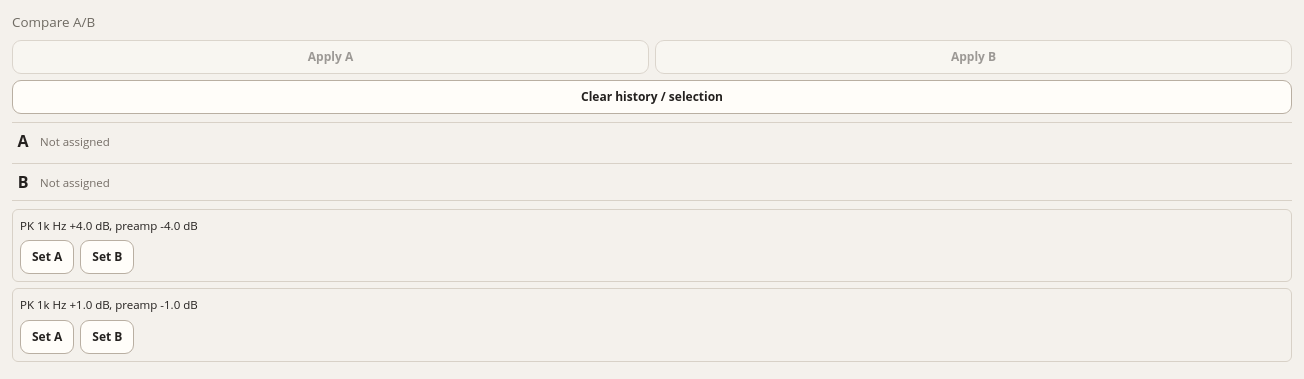
it: EqCompare › shows newest snapshots first with usable A/B assignment and bounded history controls
The width and height of the screenshot is (1304, 379).
Expected: the 1st text "Not assigned" is shown, [40,134,110,148]
Expected: the 2nd text "Not assigned" is shown, [40,174,110,190]
Click the button with aria-label "Set A: PK 1k Hz +4.0 dB, preamp -4.0 dB" at point(47, 257), box [20,240,74,274]
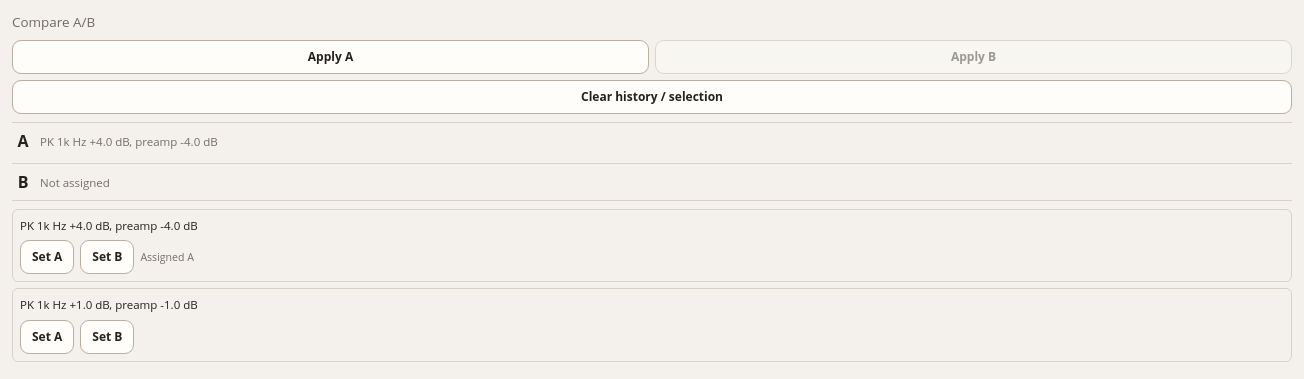
Click the button with aria-label "Set B: PK 1k Hz +1.0 dB, preamp -1.0 dB" at point(107, 337), box [80,320,134,354]
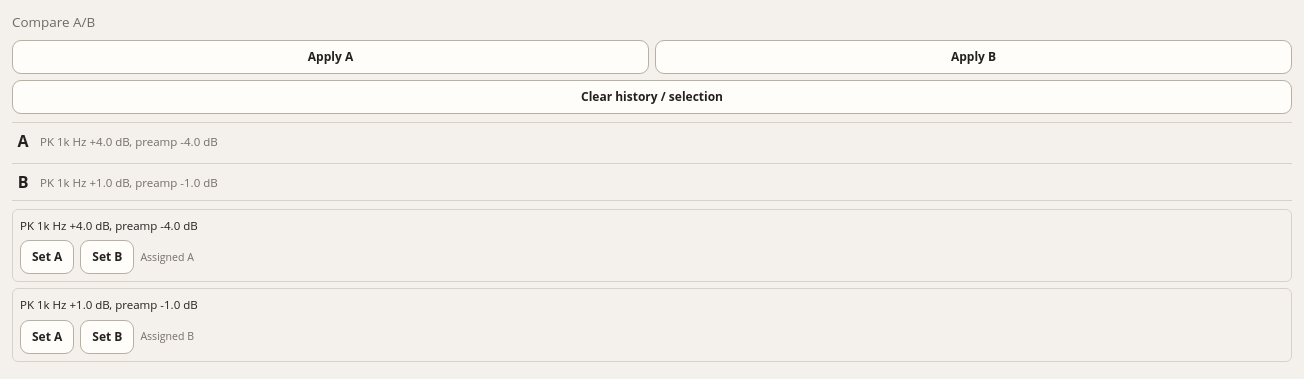
Expected: the text "Assigned A" is shown, [140,250,194,265]
Expected: the 1st text "PK 1k Hz +4.0 dB, preamp -4.0 dB" is shown, [40,134,218,148]
Expected: the text "Assigned B" is shown, [140,329,194,345]
Click the button with aria-label "Clear history and selection" at point(652, 97), box [12,80,1292,114]
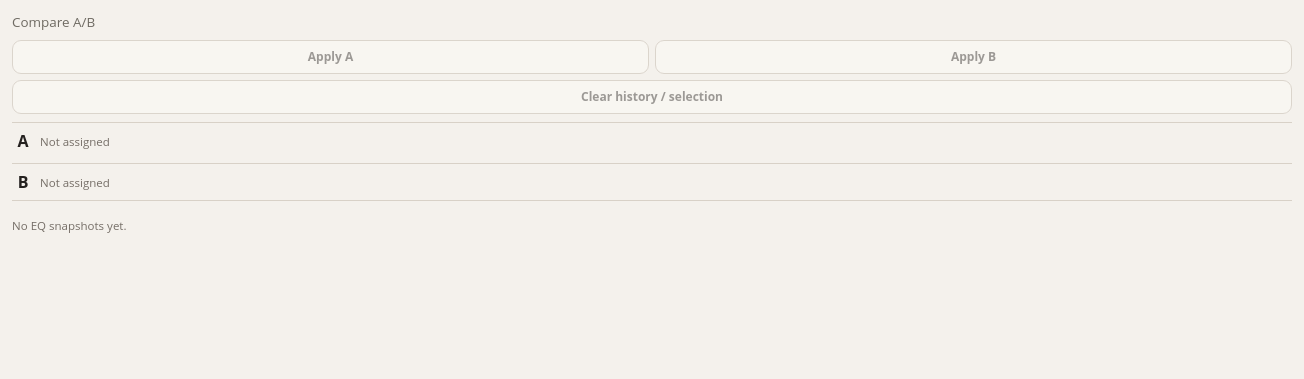
Expected: the text "No EQ snapshots yet." is shown, [12,218,126,233]
Expected: the button "Apply A" is disabled, [12,40,649,74]
Expected: the button "Apply B" is disabled, [655,40,1292,74]
